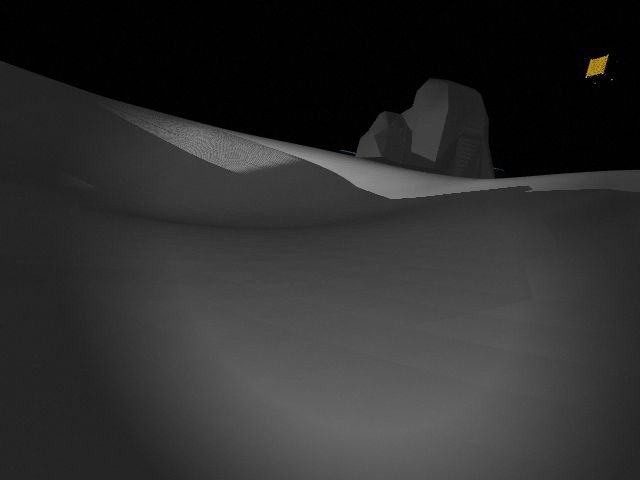cubesat: (582, 54, 627, 90)
